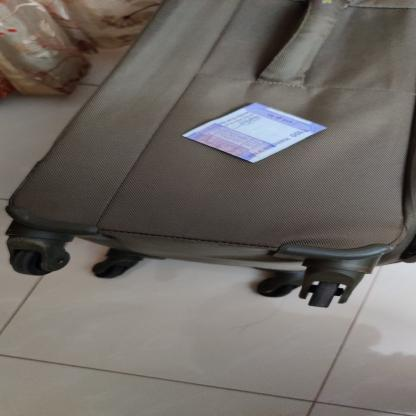New100Back: (182, 102, 327, 163)
